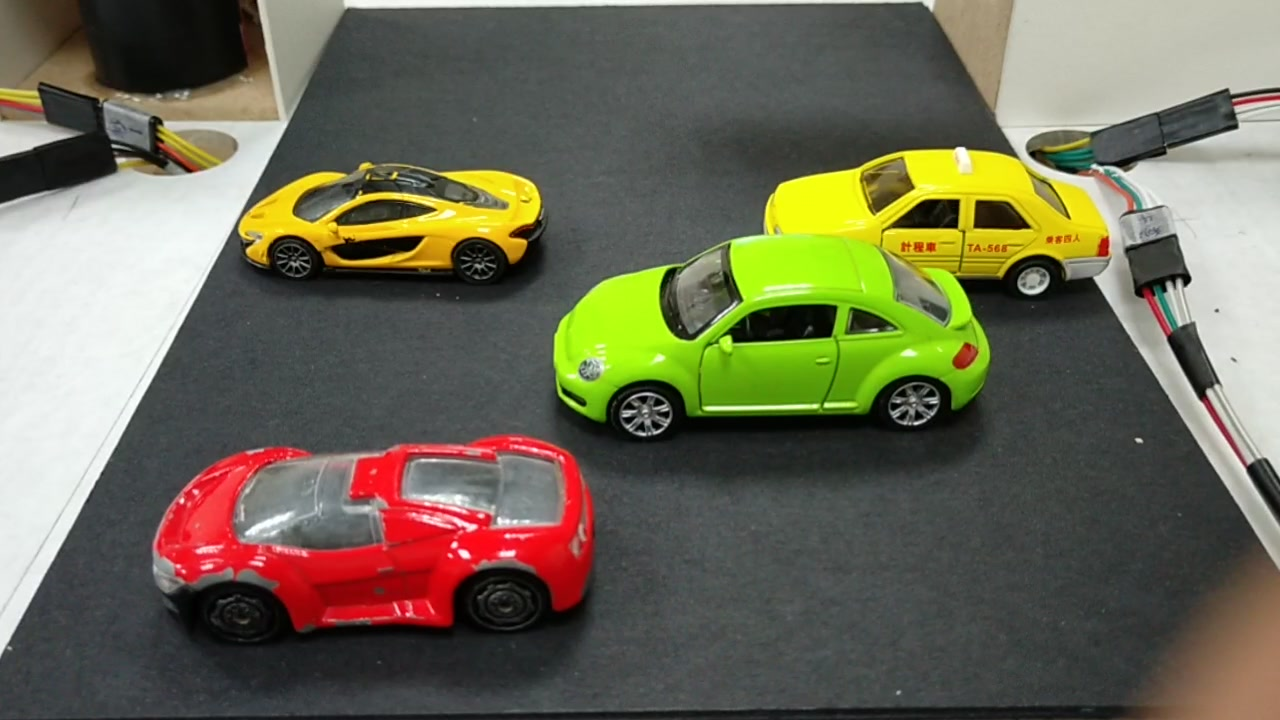car: (164, 438, 601, 636), (554, 247, 989, 427), (769, 143, 1115, 290), (232, 153, 539, 278)
